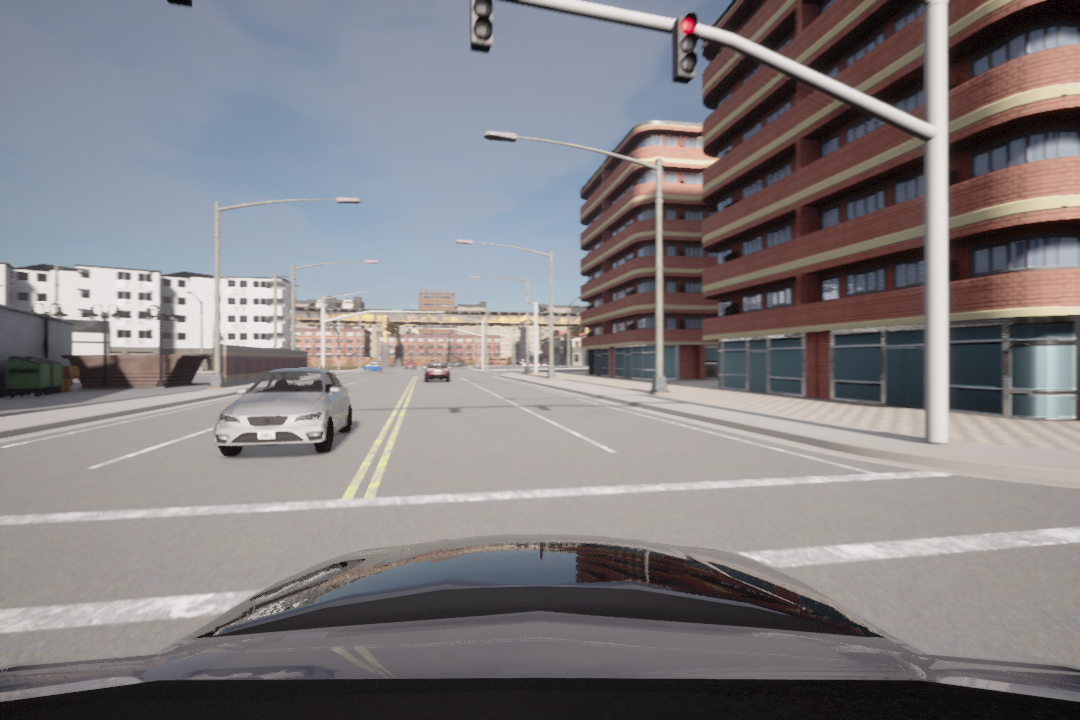TrafficLight: (671, 10, 701, 82)
